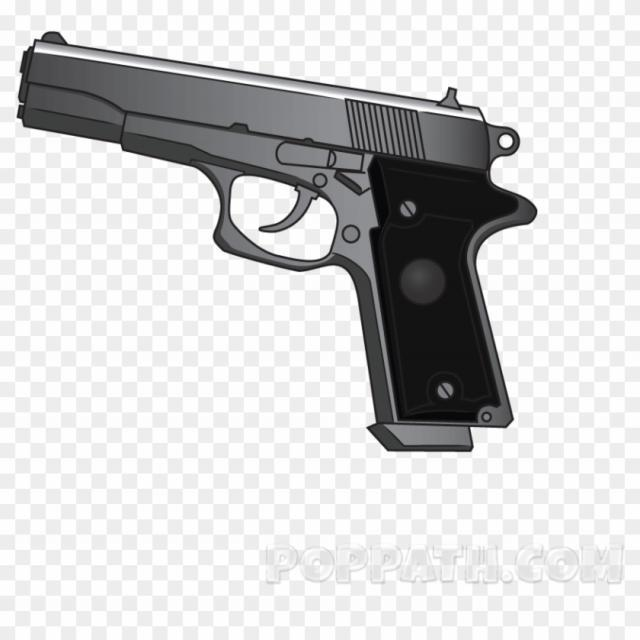Pistol: (13, 31, 538, 453)
